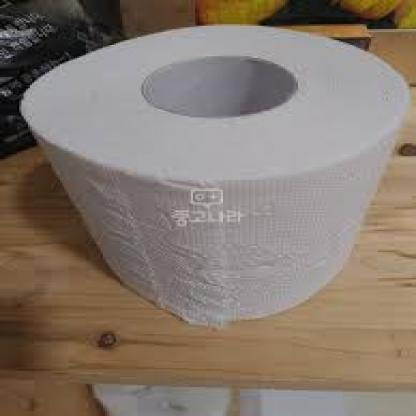tissue: (13, 14, 416, 340)
